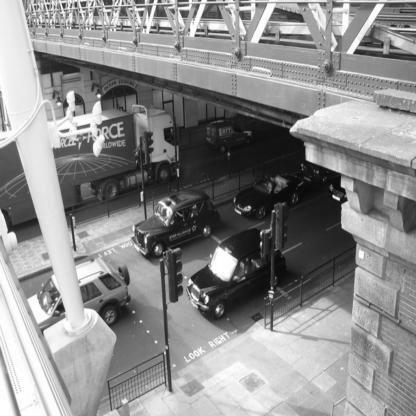car: (14, 244, 148, 343), (187, 223, 304, 320), (112, 195, 221, 261), (231, 165, 313, 221)
truck: (4, 103, 197, 202)
